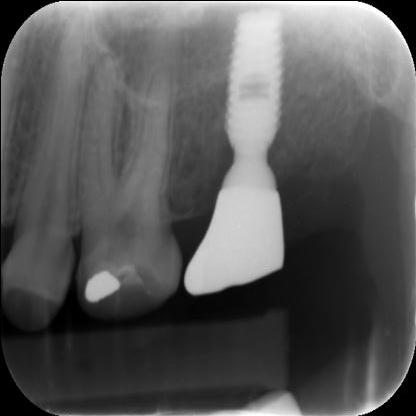Bicon: (216, 12, 285, 147)
